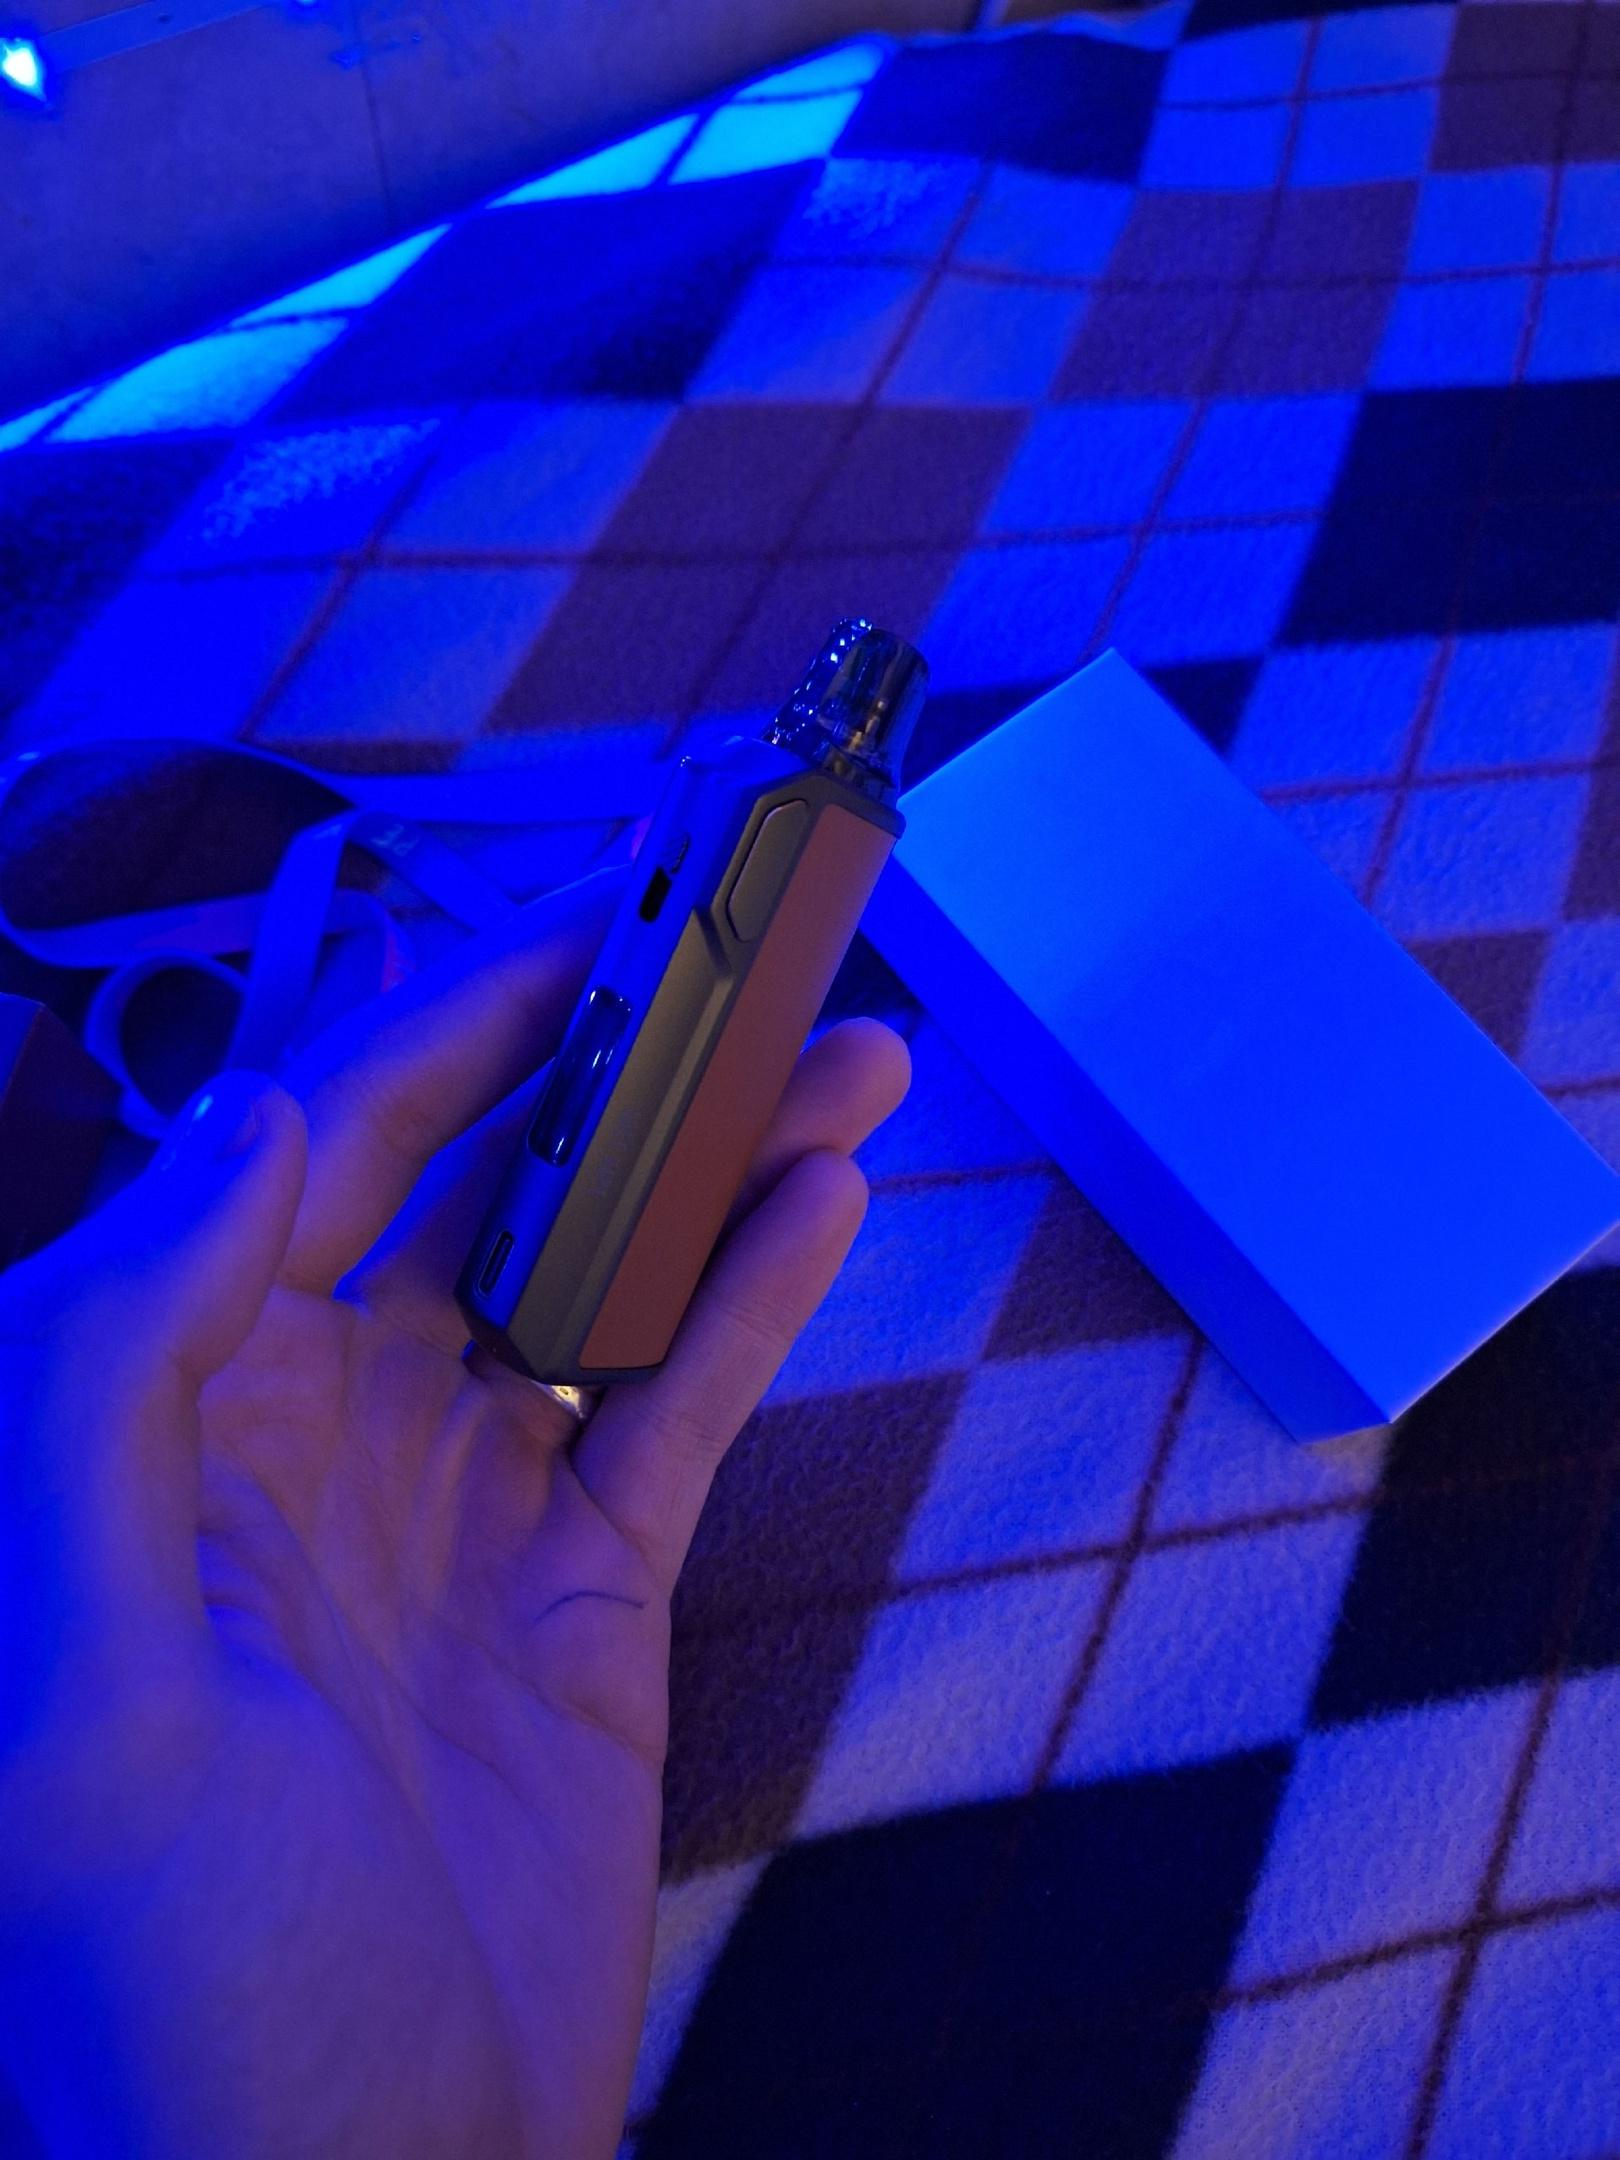Vape: (458, 621, 927, 1384)
